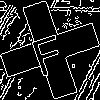F: (25, 25, 69, 78)
